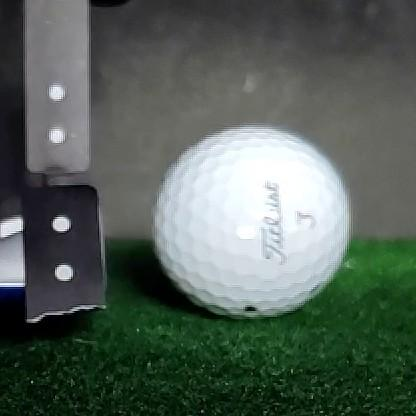golfball: (152, 127, 350, 319)
